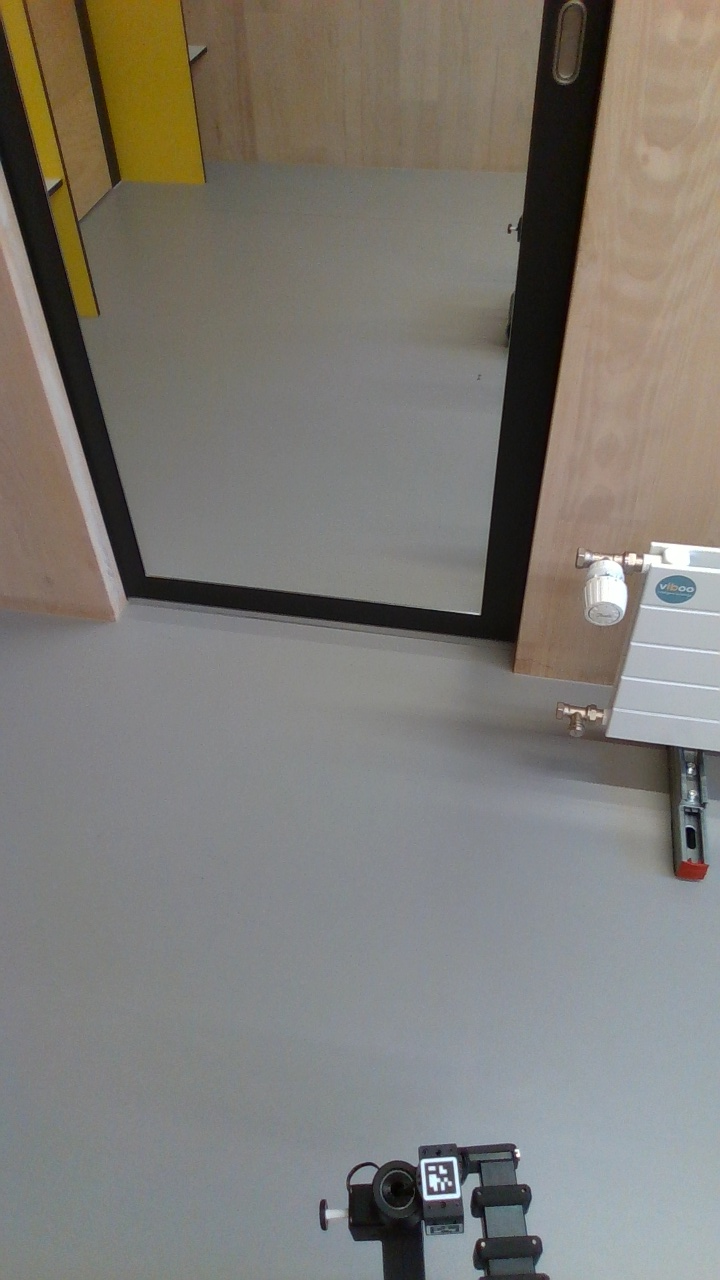Knob_Radiator: (576, 549, 636, 635)
